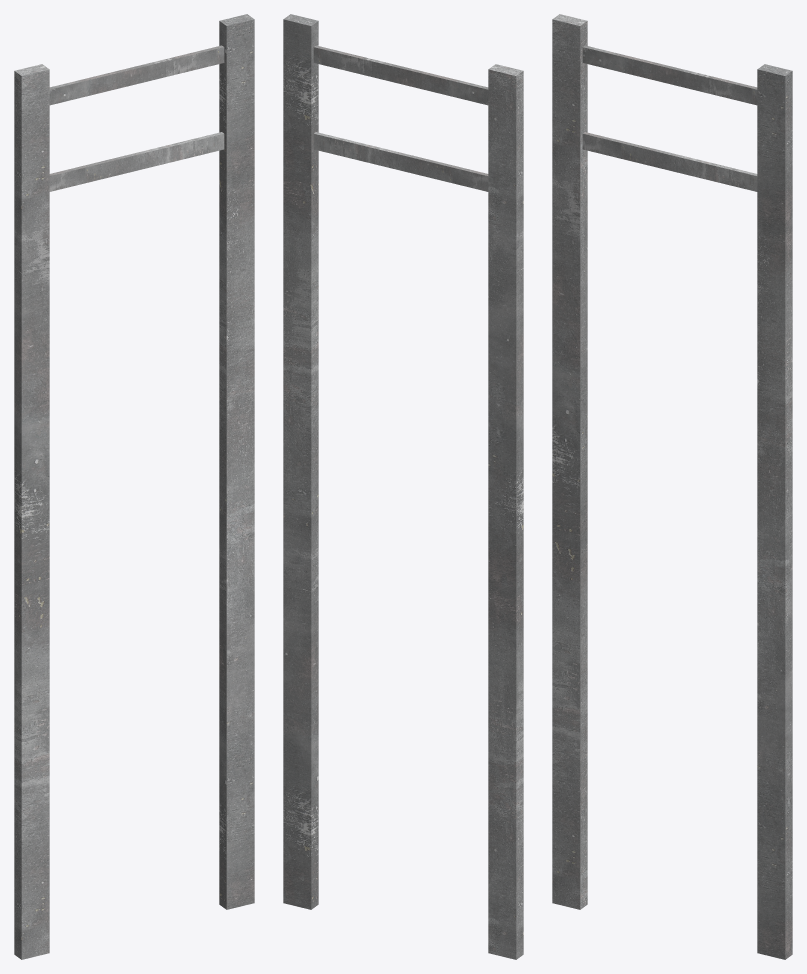
The model's file is Warning_Pole2.fbx.
3 renders of one model, left to right at view 1: azimuth 30°, elevation 25°; view 2: azimuth 150°, elevation 25°; view 3: azimuth 330°, elevation 25°, orthographic.
Parts seen in each view (by area): view 1: polySurface401; view 2: polySurface401; view 3: polySurface401.
Boxes of the visible parts, x1=… form: polySurface401: x1=14, y1=14, x2=254, y2=959; polySurface401: x1=283, y1=14, x2=523, y2=959; polySurface401: x1=552, y1=14, x2=792, y2=959.
Size of the model in its own units: 0.748 by 2.71 by 0.0407.
